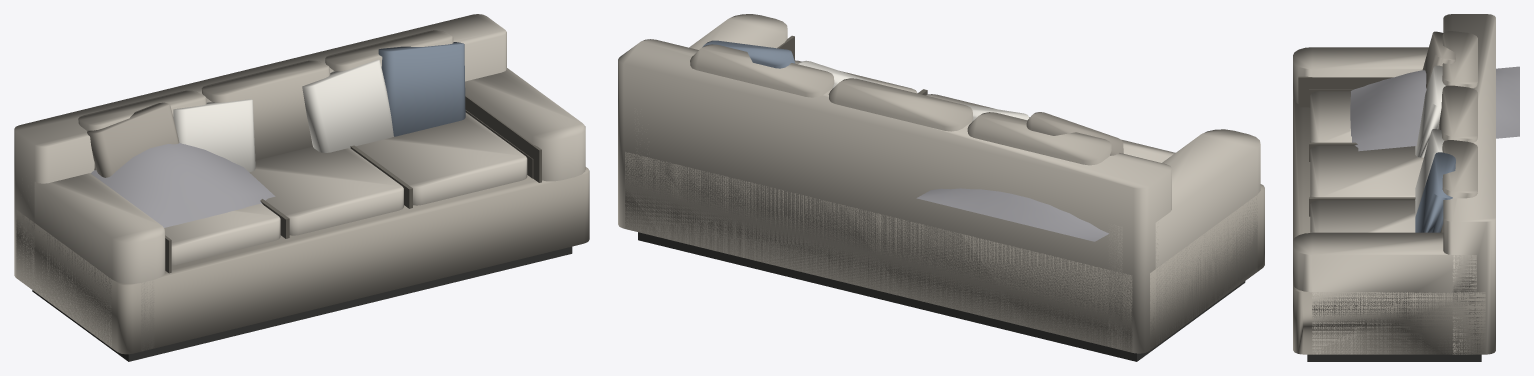
Rendered from sofa_e.glb.
The picture shows the model from 3 angles, left to right: view 1: azimuth 30°, elevation 25°; view 2: azimuth 150°, elevation 25°; view 3: azimuth 270°, elevation 25°; orthographic projection. The views are drawn at different scales.
Visible parts, largest first — view 1: root; view 2: root; view 3: root.
Part boxes in pixels (x1,y1,x2,y2): root: [14, 14, 589, 361]; root: [618, 14, 1264, 361]; root: [1293, 14, 1519, 361].
Bounding box in the file's own units: 2.62 × 0.9414 × 1.21.
